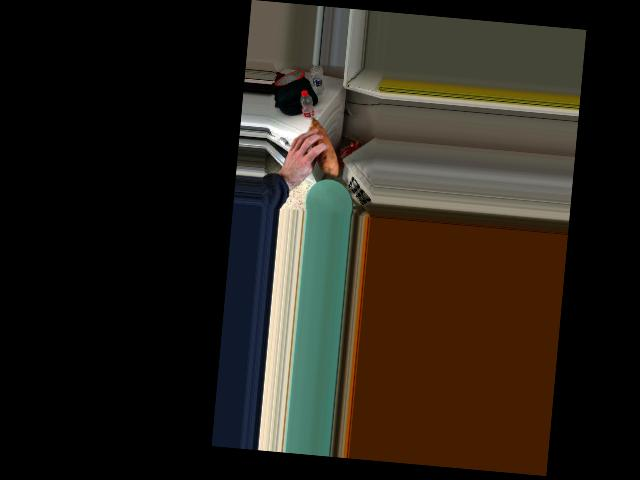sweet_potato: (297, 120, 341, 167)
